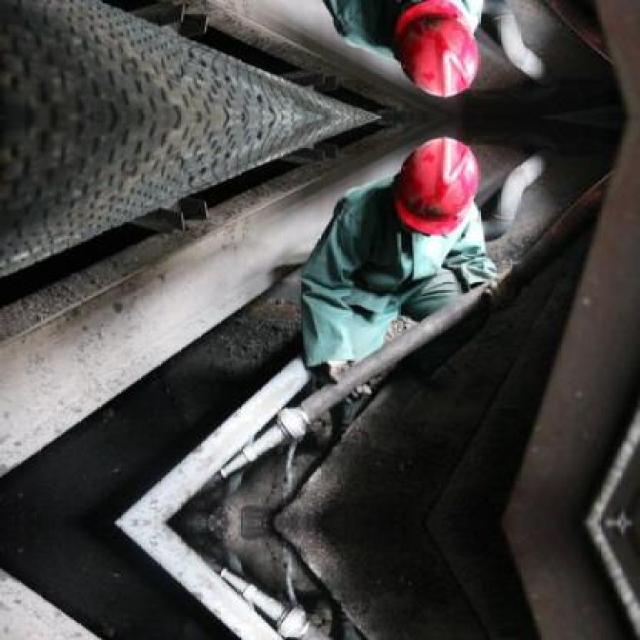helmet: (388, 127, 489, 238), (388, 0, 490, 108)
